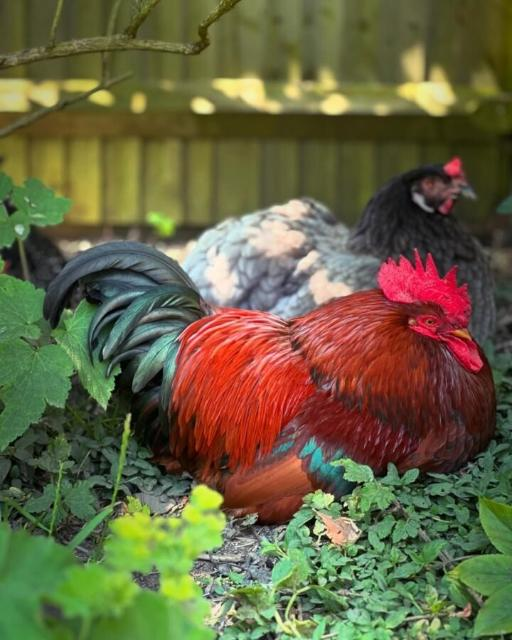Chicken: (44, 236, 499, 502), (183, 152, 498, 363)
